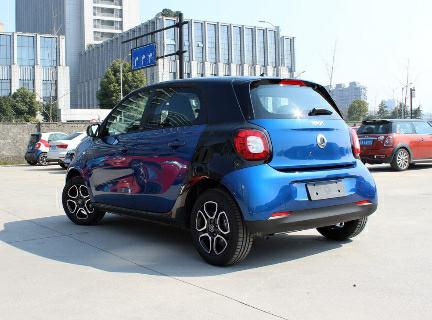smart-forfour: (60, 84, 380, 273)
